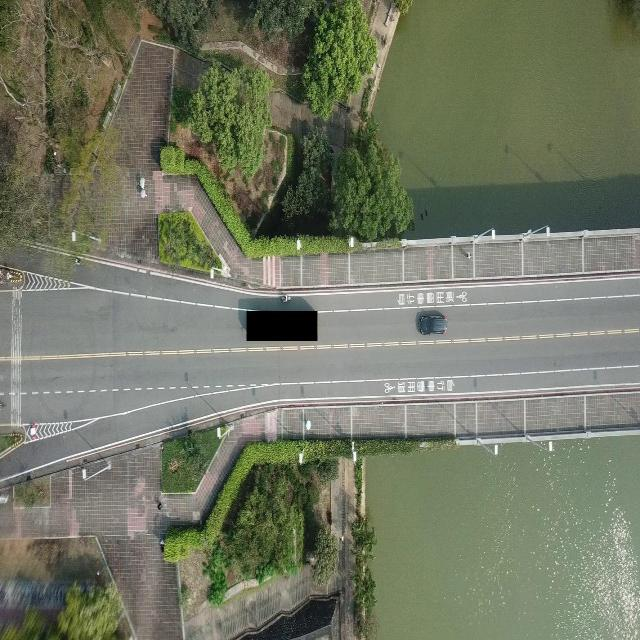car: (416, 312, 447, 335)
